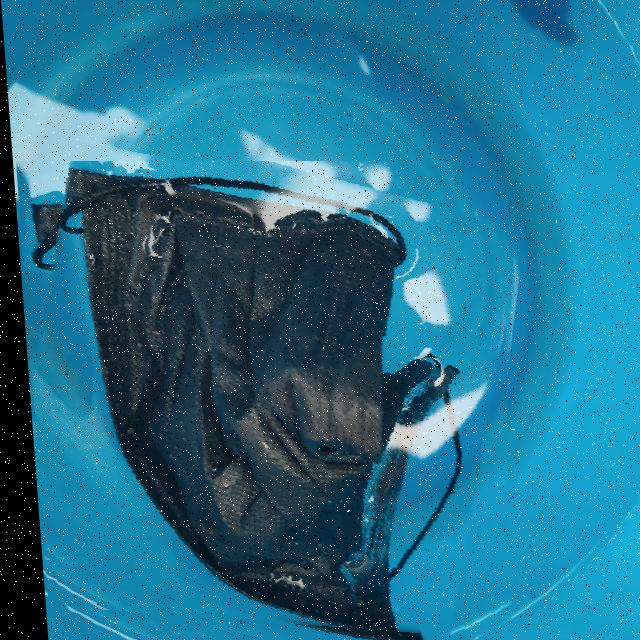mask: (12, 161, 526, 640)
